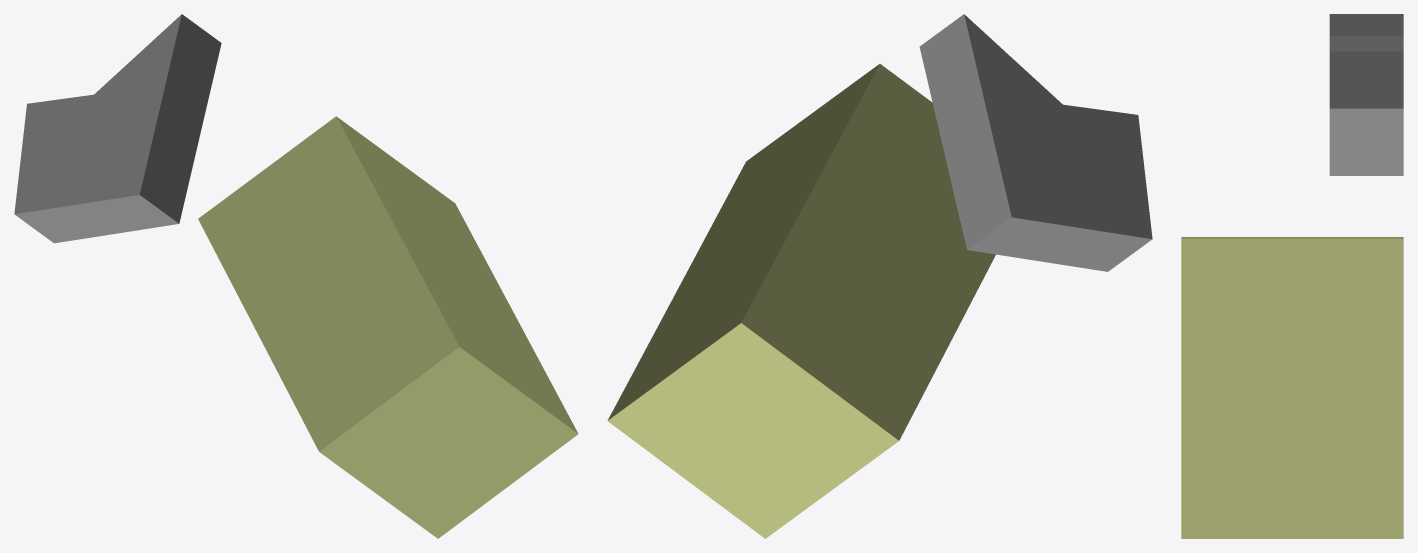
3 renders of one model, left to right at view 1: azimuth 30°, elevation 25°; view 2: azimuth 150°, elevation 25°; view 3: azimuth 270°, elevation 25°, orthographic. The views are drawn at different scales.
Parts seen in each view (by area): view 1: 0_1_0_2_2_1_1_1_0_1; view 2: 0_1_0_2_2_1_1_1_0_1; view 3: 0_1_0_2_2_1_1_1_0_1.
Boxes of the visible parts, <box> form: 0_1_0_2_2_1_1_1_0_1: <box>14,14,578,538</box>; 0_1_0_2_2_1_1_1_0_1: <box>607,14,1152,538</box>; 0_1_0_2_2_1_1_1_0_1: <box>1181,14,1403,538</box>.
Size of the model in its own units: 19.42 by 19.65 by 9.
